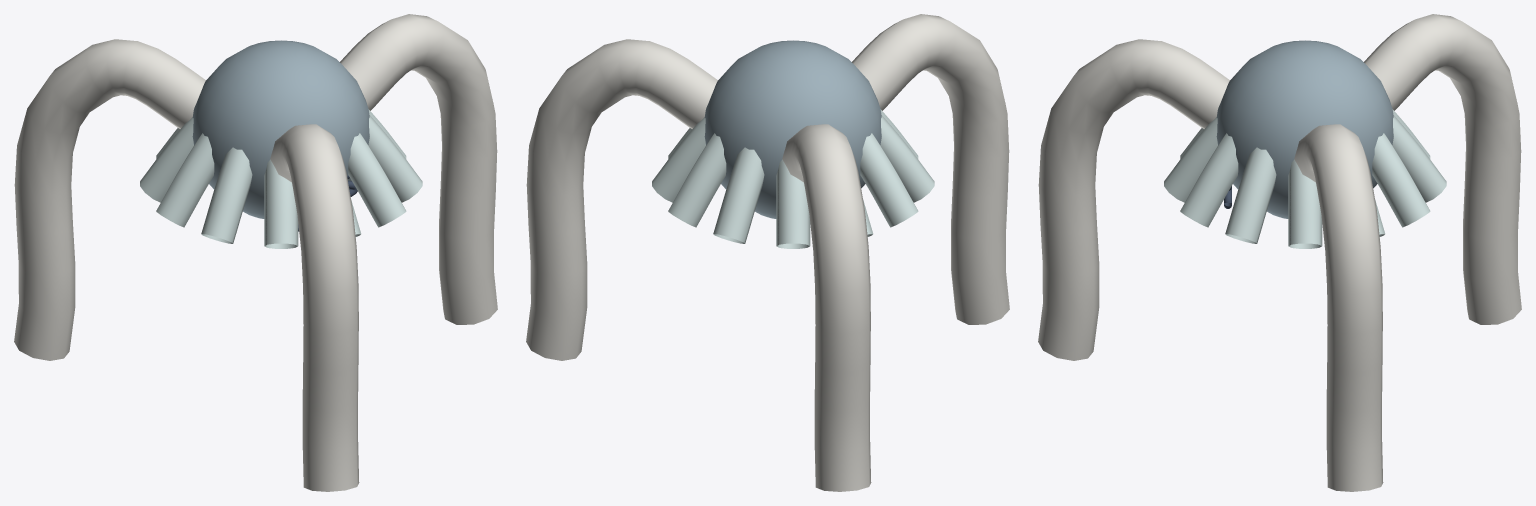
The model's file is bio_tripod_bell_07_near.glb.
The picture shows the model from 3 angles, left to right: view 1: azimuth 30°, elevation 25°; view 2: azimuth 150°, elevation 25°; view 3: azimuth 270°, elevation 25°; orthographic projection.
Parts seen in each view (by area): view 1: Arched tripod.001, Arched tripod, Arched tripod.002, Hanging bell core, Flared rib.007, Flared rib.006, Flared rib.010, Flared rib.008, Flared rib.011, Flared rib.005; view 2: Arched tripod, Arched tripod.002, Arched tripod.001, Hanging bell core, Flared rib.003, Flared rib.002, Flared rib.006, Flared rib.004, Flared rib.007, Flared rib.001; view 3: Arched tripod.002, Arched tripod.001, Arched tripod, Hanging bell core, Flared rib.011, Flared rib.010, Flared rib.002, Flared rib, Flared rib.003, Flared rib.009.
Boxes of the visible parts, x1,y1,x2,y2 form: Arched tripod.001: (14, 39, 205, 360); Arched tripod: (340, 14, 497, 324); Arched tripod.002: (270, 124, 359, 491); Hanging bell core: (192, 40, 369, 218); Flared rib.007: (201, 147, 252, 243); Flared rib.006: (156, 133, 214, 227); Flared rib.010: (348, 133, 406, 227); Flared rib.008: (264, 159, 298, 248); Flared rib.011: (368, 115, 422, 202); Flared rib.005: (140, 117, 193, 202); Arched tripod: (526, 39, 717, 360); Arched tripod.002: (852, 14, 1009, 324); Arched tripod.001: (782, 124, 871, 491); Hanging bell core: (704, 40, 881, 218); Flared rib.003: (713, 147, 764, 243); Flared rib.002: (668, 133, 726, 227); Flared rib.006: (860, 133, 918, 227); Flared rib.004: (776, 159, 810, 248); Flared rib.007: (880, 115, 934, 202); Flared rib.001: (652, 117, 705, 202); Arched tripod.002: (1038, 39, 1229, 360); Arched tripod.001: (1364, 14, 1521, 324); Arched tripod: (1294, 124, 1383, 491); Hanging bell core: (1216, 40, 1393, 218); Flared rib.011: (1225, 147, 1276, 243); Flared rib.010: (1180, 133, 1238, 227); Flared rib.002: (1372, 133, 1430, 227); Flared rib: (1288, 159, 1322, 248); Flared rib.003: (1392, 115, 1446, 202); Flared rib.009: (1164, 117, 1217, 202).
Bounding box in the file's own units: 2.49 × 1.97 × 2.57.
